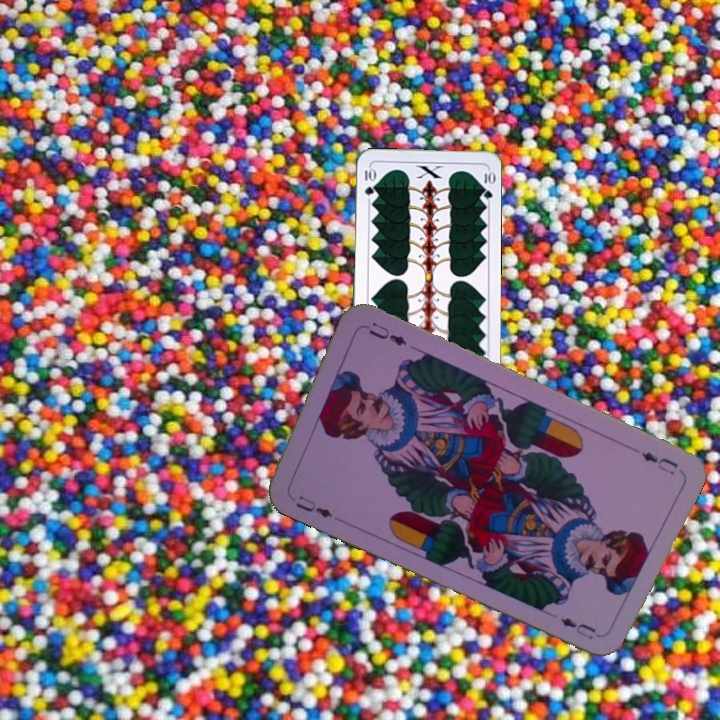EU: (291, 491, 336, 521), (637, 448, 681, 478)
G10: (361, 163, 376, 198)
